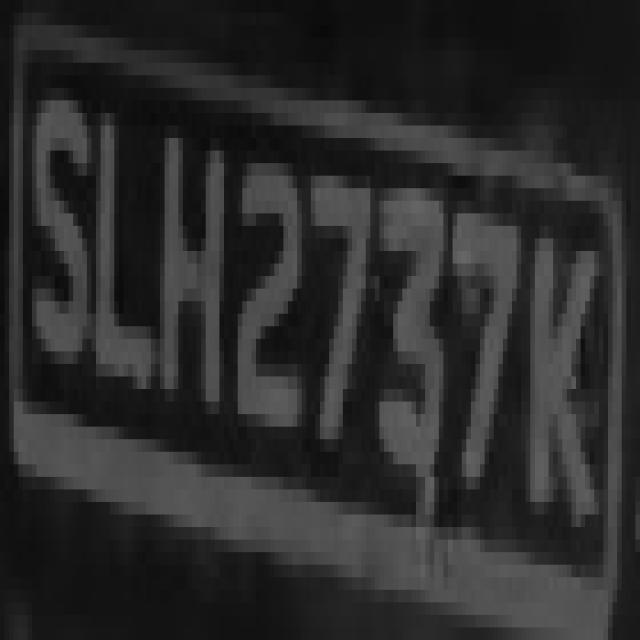2: (224, 100, 306, 477)
3: (366, 138, 448, 515)
7: (288, 113, 366, 502), (448, 138, 517, 527)
H: (151, 100, 238, 427)
K: (521, 163, 599, 577)
L: (91, 76, 142, 440)
S: (18, 75, 87, 414)
